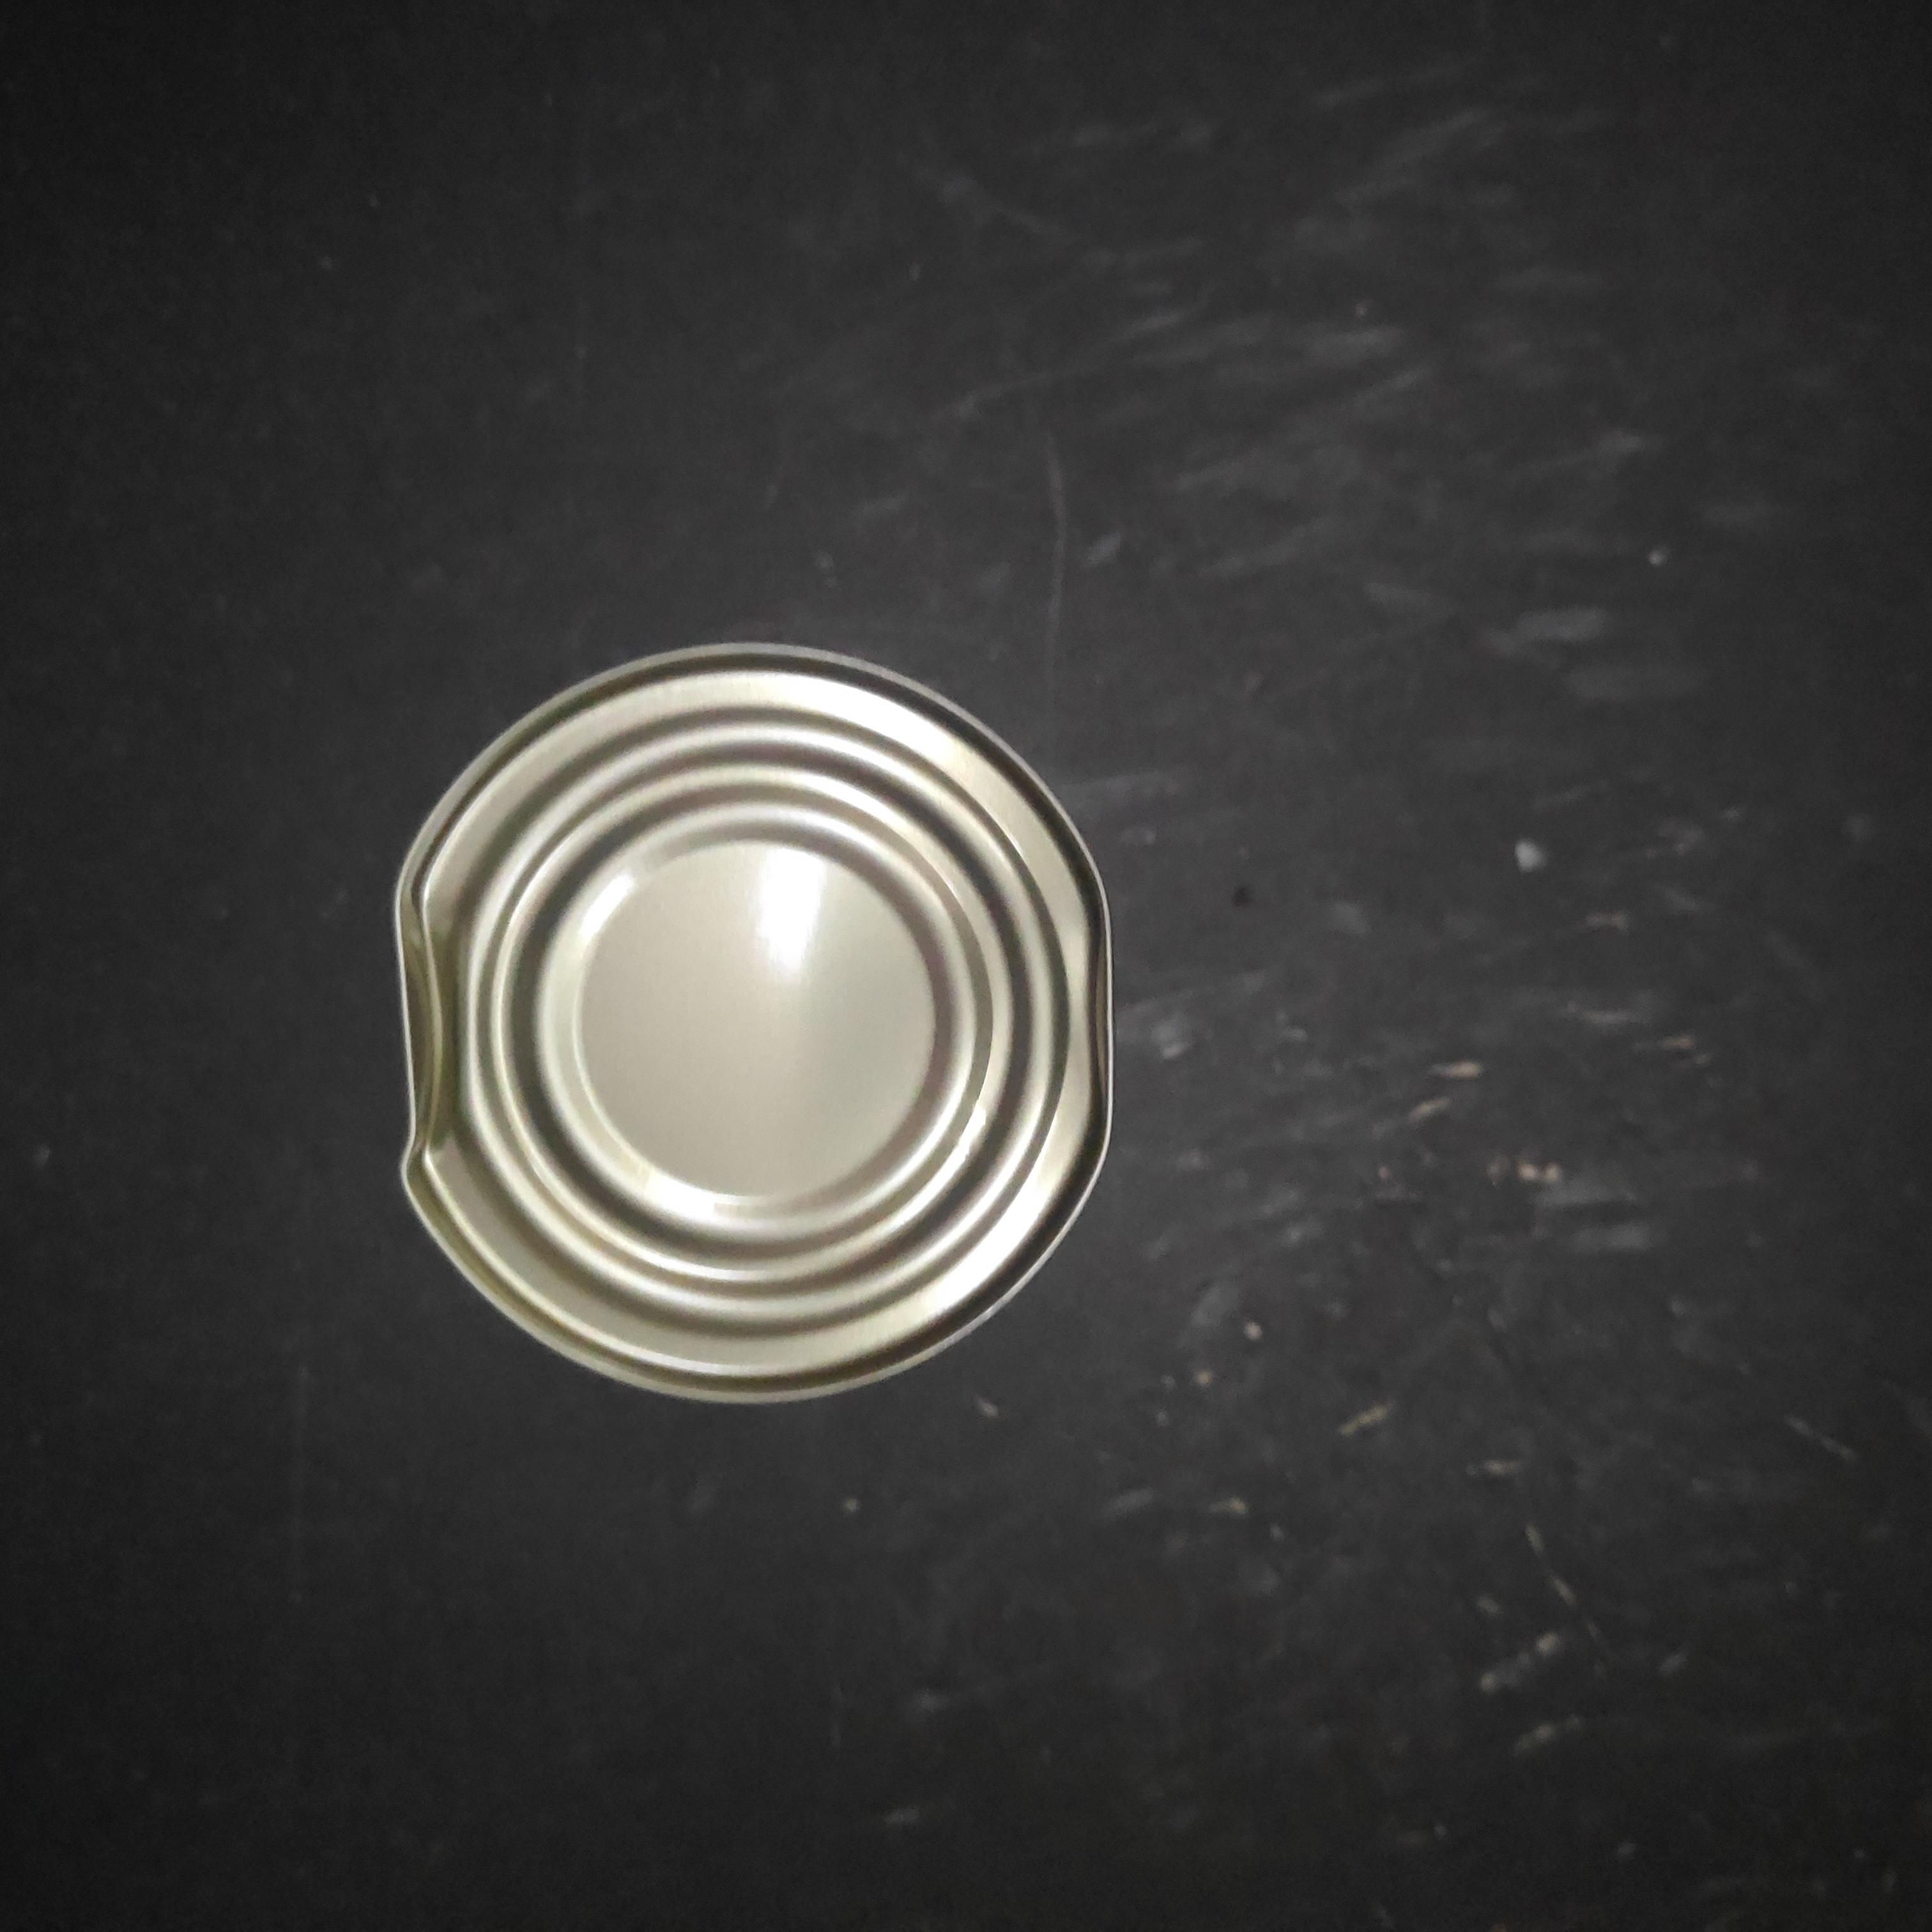Minor Defect: (796, 506, 1553, 1309)
